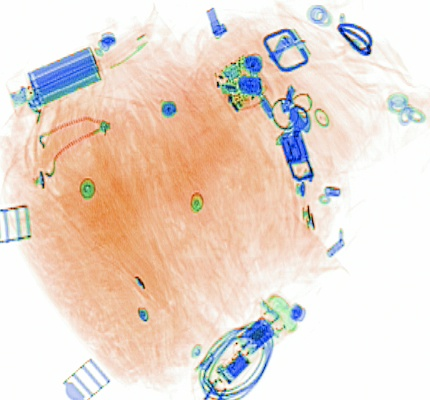powerbank: (5, 40, 103, 119)
